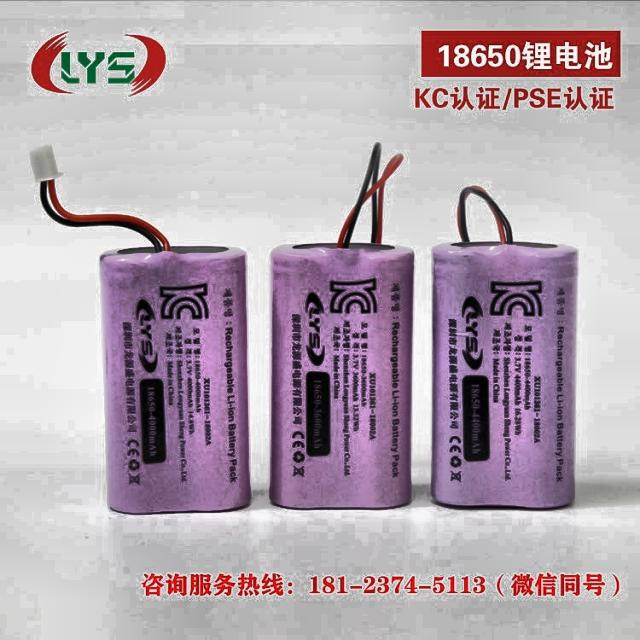Non-Valuable Waste - Batteries: (31, 146, 249, 513), (432, 186, 578, 508), (271, 239, 414, 509)
